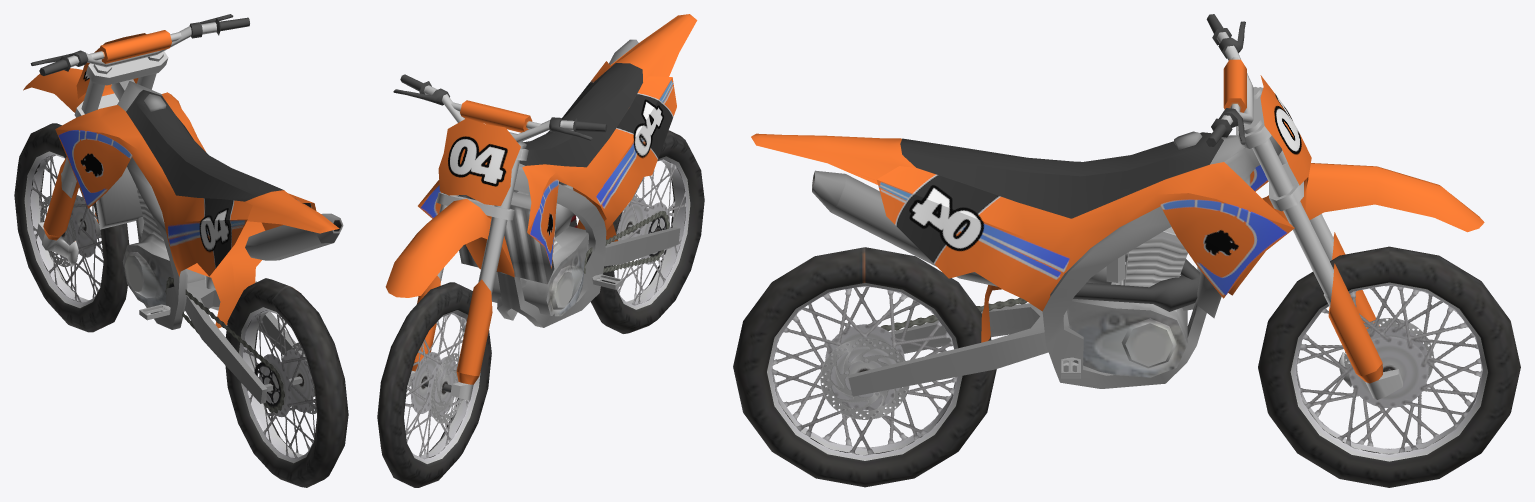
The model's file is dirtbike.glb.
The picture shows the model from 3 angles, left to right: view 1: azimuth 30°, elevation 25°; view 2: azimuth 150°, elevation 25°; view 3: azimuth 270°, elevation 25°; orthographic projection. The views are drawn at different scales.
Parts seen in each view (by area): view 1: dirt_bike orange, rear_wheel, front_wheel, throttle, motor, swingarm, fork; view 2: dirt_bike orange, throttle, front_wheel, rear_wheel, motor, fork, swingarm; view 3: dirt_bike orange, rear_wheel, front_wheel, throttle, motor, swingarm, fork.
Part boxes in pixels (x1,y1,x2,y2): dirt_bike orange: (55,79,339,329); rear_wheel: (225,278,348,487); front_wheel: (14,123,129,332); throttle: (23,14,249,182); motor: (122,186,343,311); swingarm: (165,277,313,413); fork: (37,157,101,266); dirt_bike orange: (418,14,697,327); throttle: (385,74,607,297); front_wheel: (377,282,491,487); rear_wheel: (591,130,704,333); motor: (491,39,638,316); fork: (407,275,492,401); swingarm: (577,211,680,273); dirt_bike orange: (751,131,1294,388); rear_wheel: (733,247,996,487); front_wheel: (1258,246,1520,487); throttle: (1206,14,1484,296); motor: (812,170,1200,377); swingarm: (848,297,1069,396); fork: (1324,232,1402,399).
Size of the model in its own units: 0.7843 by 1.21 by 2.09.
Materials: 1 (1 with a texture image).
